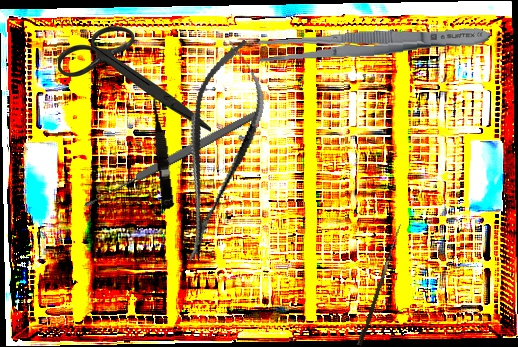Dressing Forceps: (256, 20, 492, 67)
Hook Surgical: (356, 222, 402, 347)
Iris Scissors: (58, 26, 211, 132)
Micro Scissor: (156, 32, 279, 269), (147, 91, 178, 210)
Surgical Spoon: (81, 108, 261, 211)
